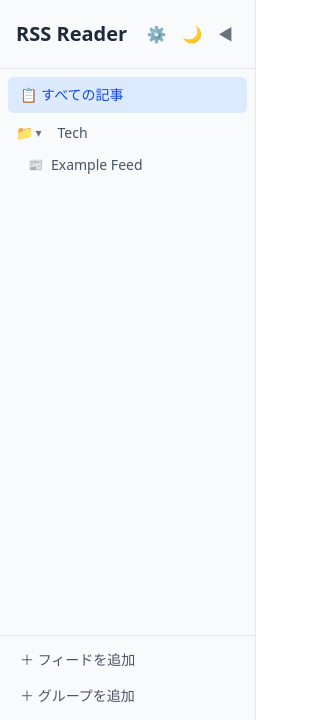
Scenario: Sidebar（特性テスト） › フォルダアイコンでグループを折りたたむとフィードが非表示になる
Expected: the text "Example Feed" is shown, x1=51 y1=155 x2=143 y2=175
Click the button titled "折りたたむ": (29,133) x1=8 y1=117 x2=50 y2=149
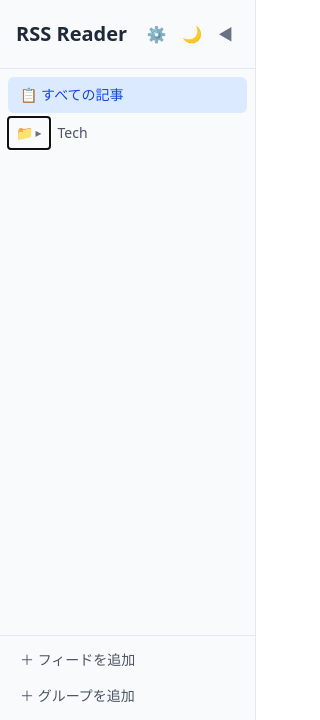
Result: the button "Example Feed" is gone
